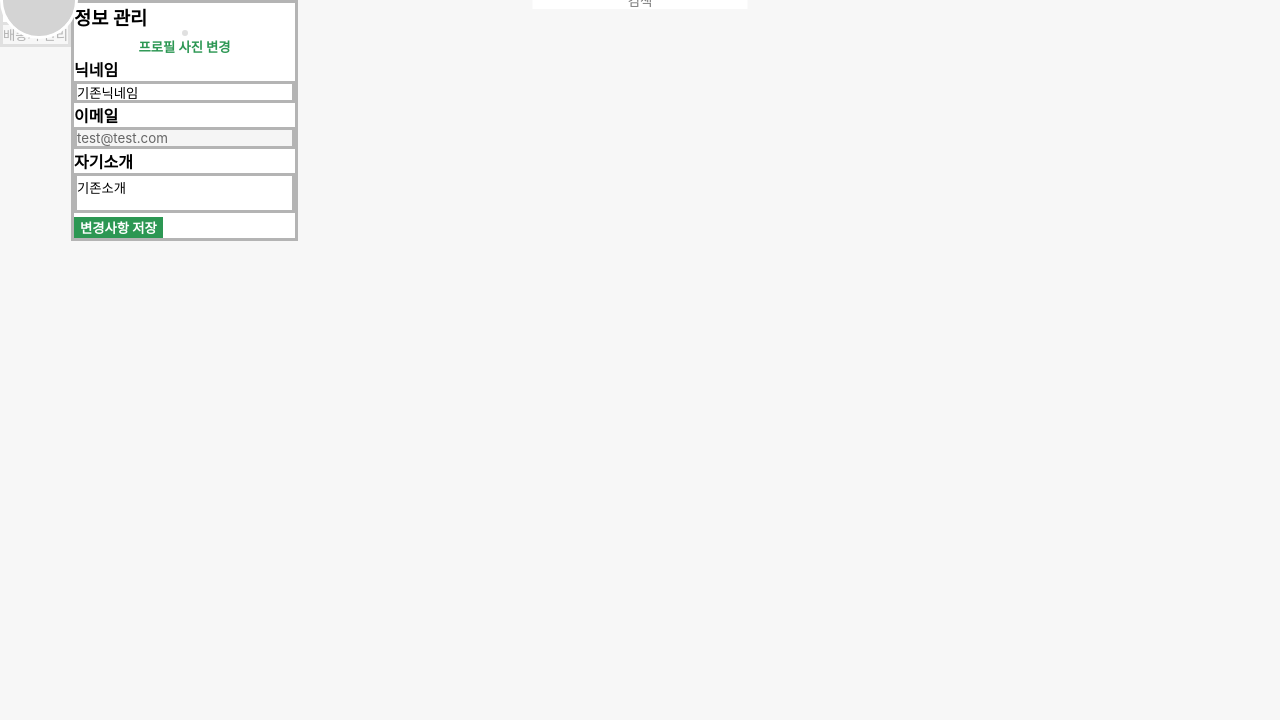
Test: 변경사항 저장 버튼 클릭 시 비밀번호를 확인하고 성공 모달이 나타나야 합니다
This screenshot has width=1280, height=720.
닉네임 변경 시뮬레이션
Replace the text in the field labelled "닉네임" with "새로운닉네임" at (185, 92), box [74,81,295,103]
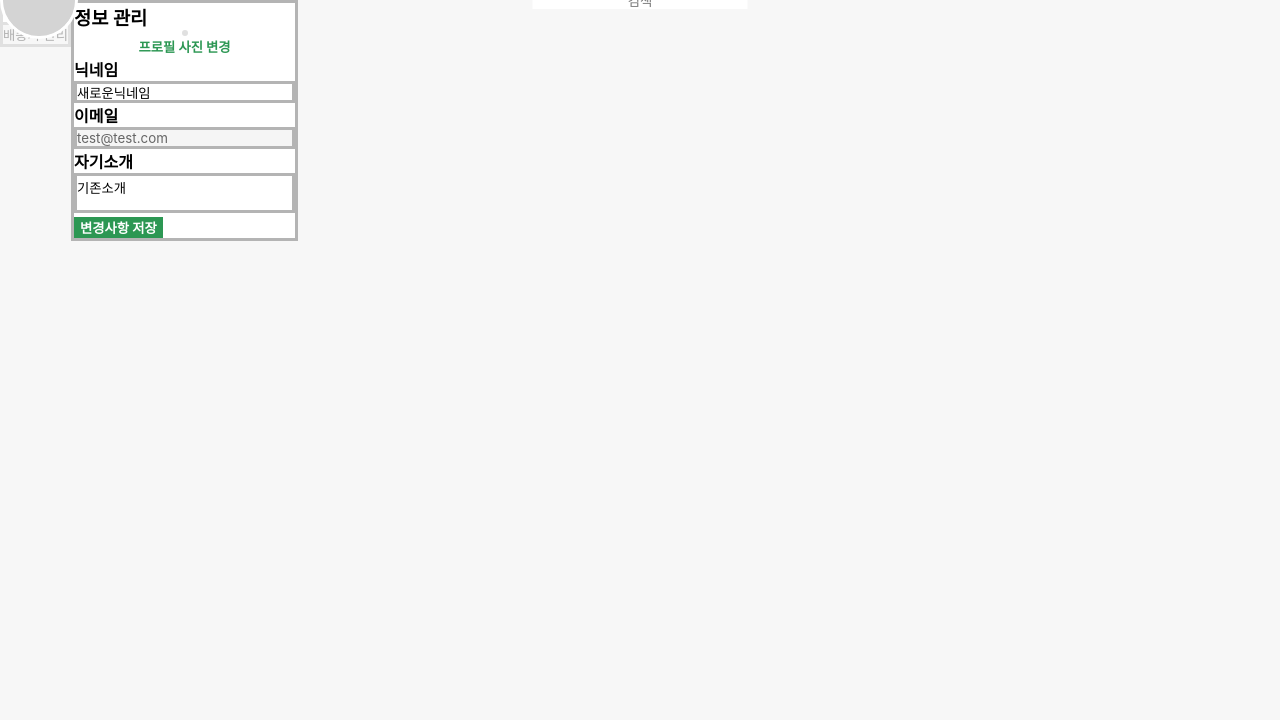
[변경사항 저장] 버튼 클릭
Click the button "변경사항 저장".
click(118, 228)  # box [74,217,163,238]
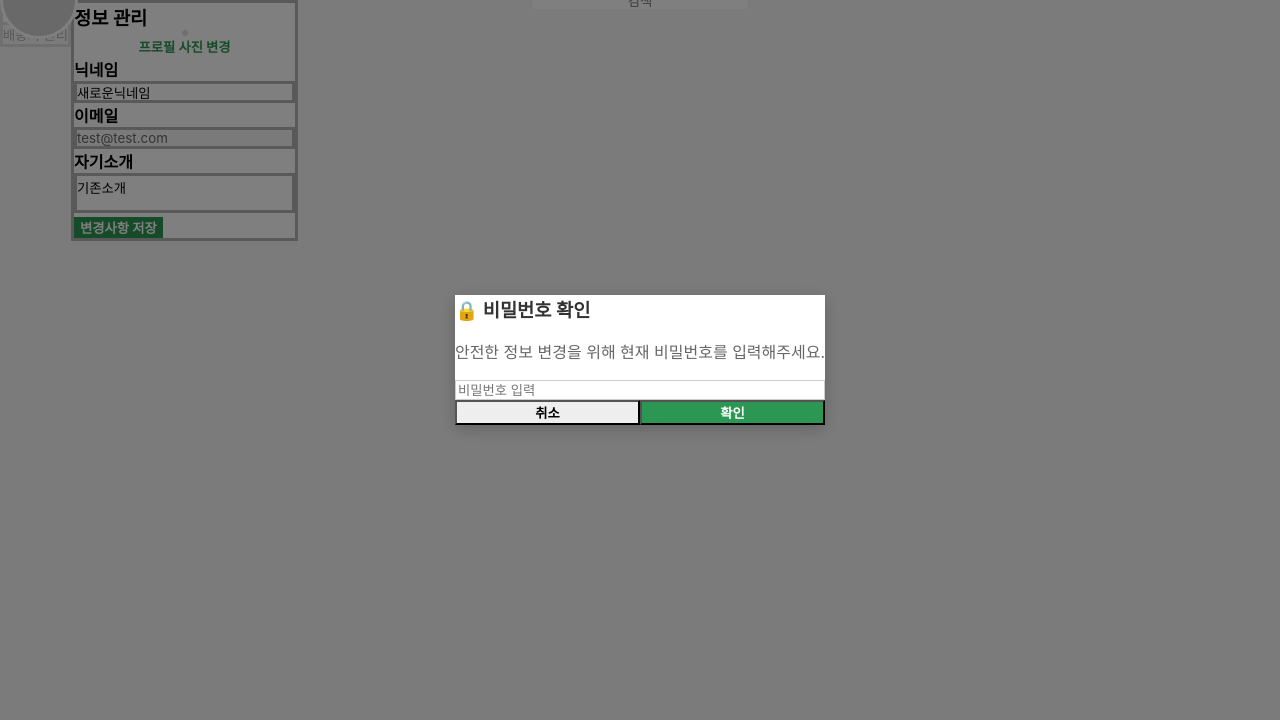
Check: the password field with placeholder "비밀번호 입력" is shown
Type "myPassword123!" into the password field with placeholder "비밀번호 입력".
click(640, 390); type("myPassword123!")  # box [455,380,825,400]
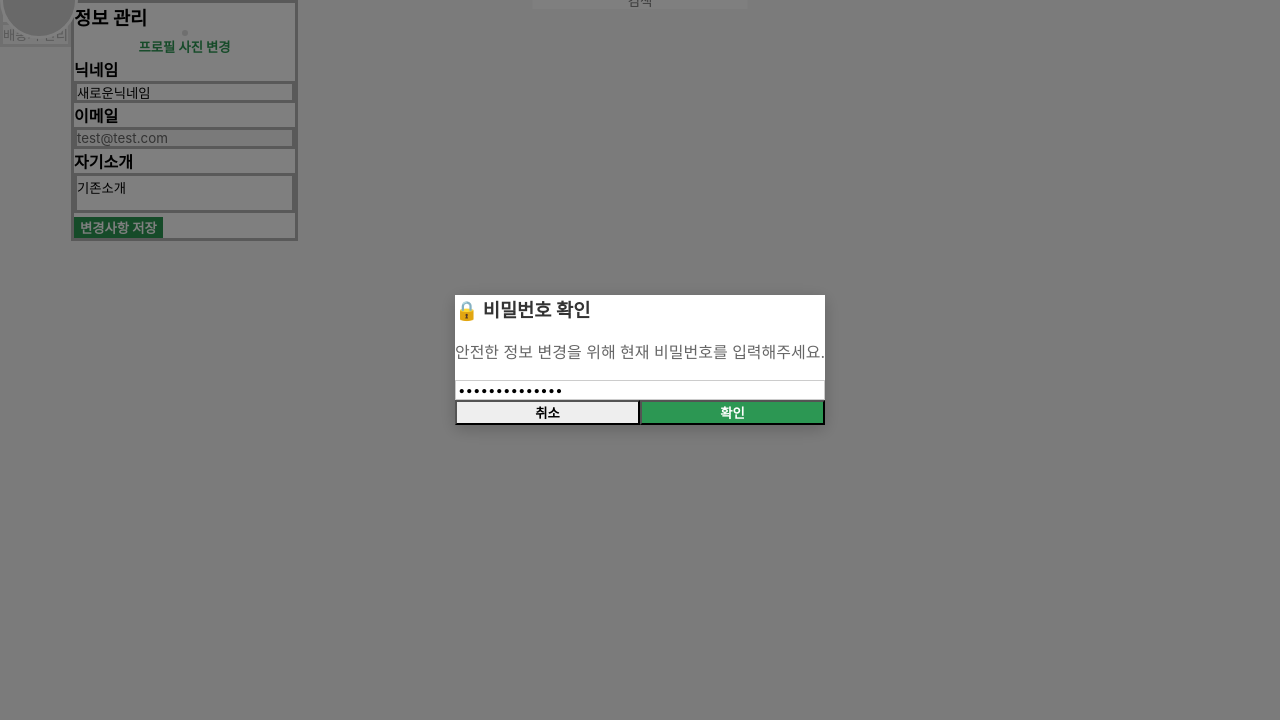
모달 창 안의 [확인] 버튼 클릭
Click the button "확인".
click(733, 412)  # box [640,400,825,425]
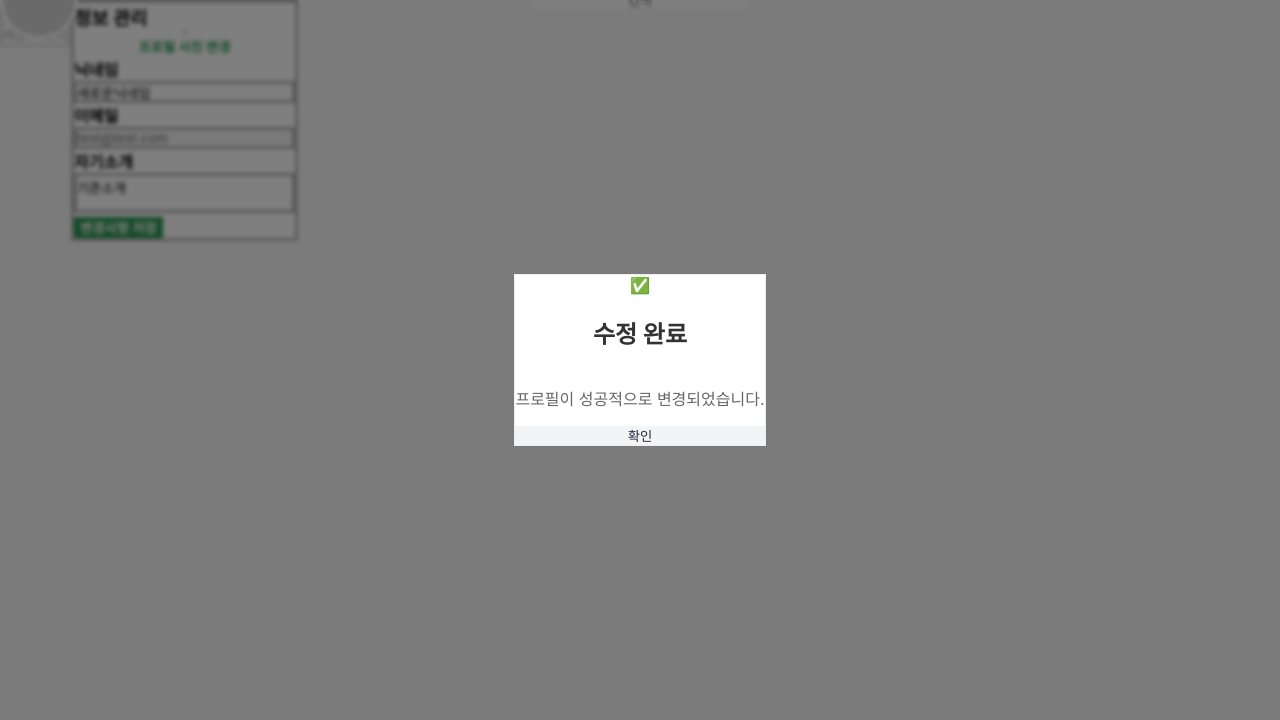
Check: the text "프로필이 성공적으로 변경되었습니다." is shown, box [515,386,764,410]
